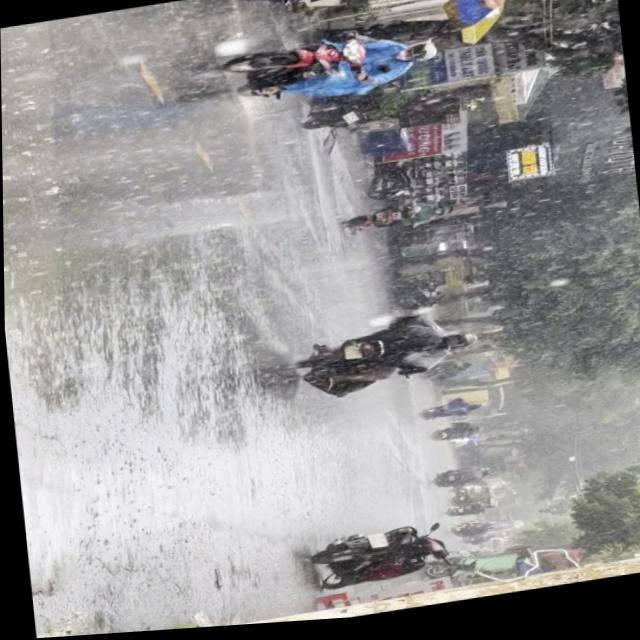helmet: (403, 44, 439, 67), (446, 334, 479, 355)
licenseplate: (216, 17, 444, 116), (287, 312, 483, 405)
nohelmet: (343, 347, 360, 363)
